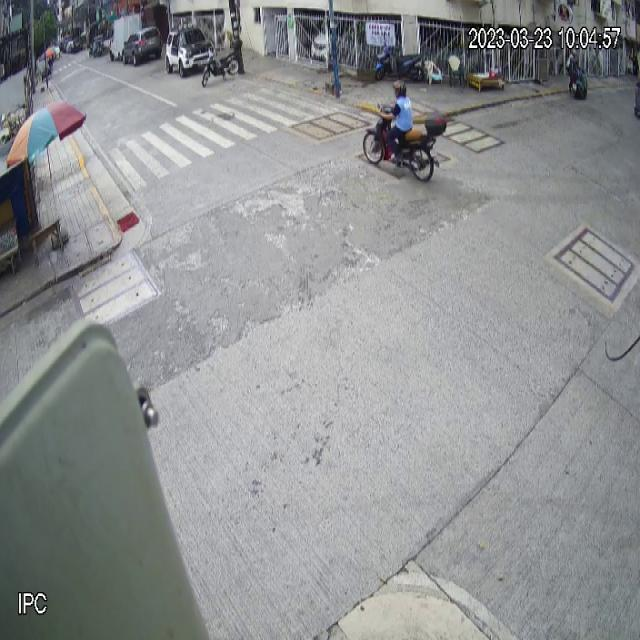Motorcycle: (362, 99, 447, 182)
